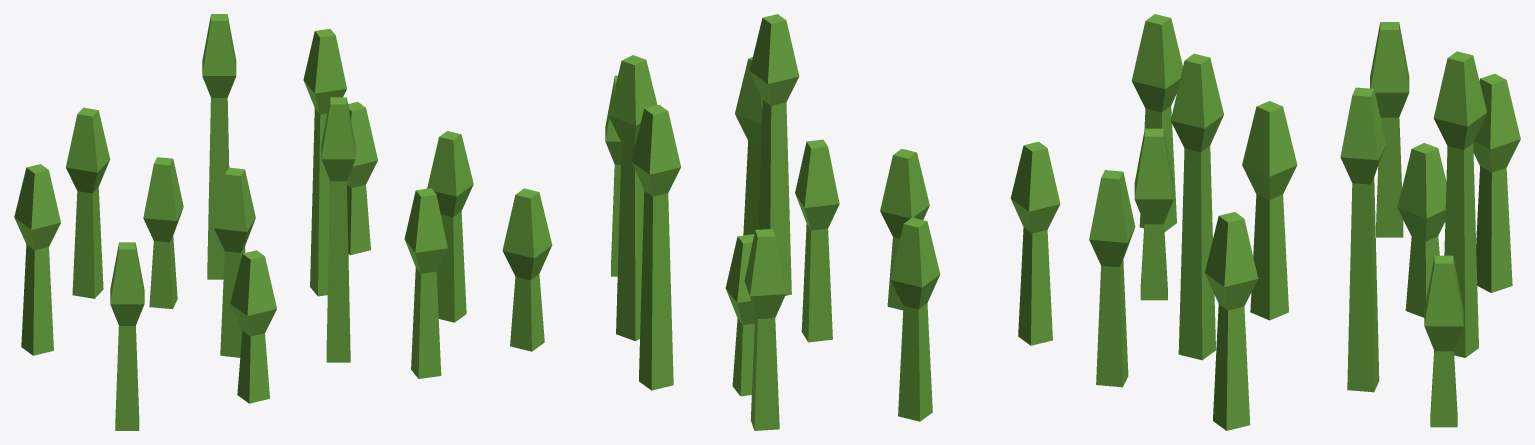
The model's file is crops_wheatStageA.glb.
3 views of the same model, side by side, from view 1: azimuth 30°, elevation 25°; view 2: azimuth 150°, elevation 25°; view 3: azimuth 270°, elevation 25° (orthographic). The views are drawn at different scales.
Visible parts, largest first — view 1: crops_wheatStageA; view 2: crops_wheatStageA; view 3: crops_wheatStageA.
Part boxes in pixels (box(x1,y1,x2,y2)): crops_wheatStageA: box(14, 14, 473, 430); crops_wheatStageA: box(502, 14, 1060, 430); crops_wheatStageA: box(1089, 14, 1520, 430).
Bounding box in the file's own units: 0.5396 × 0.3349 × 0.4467.
